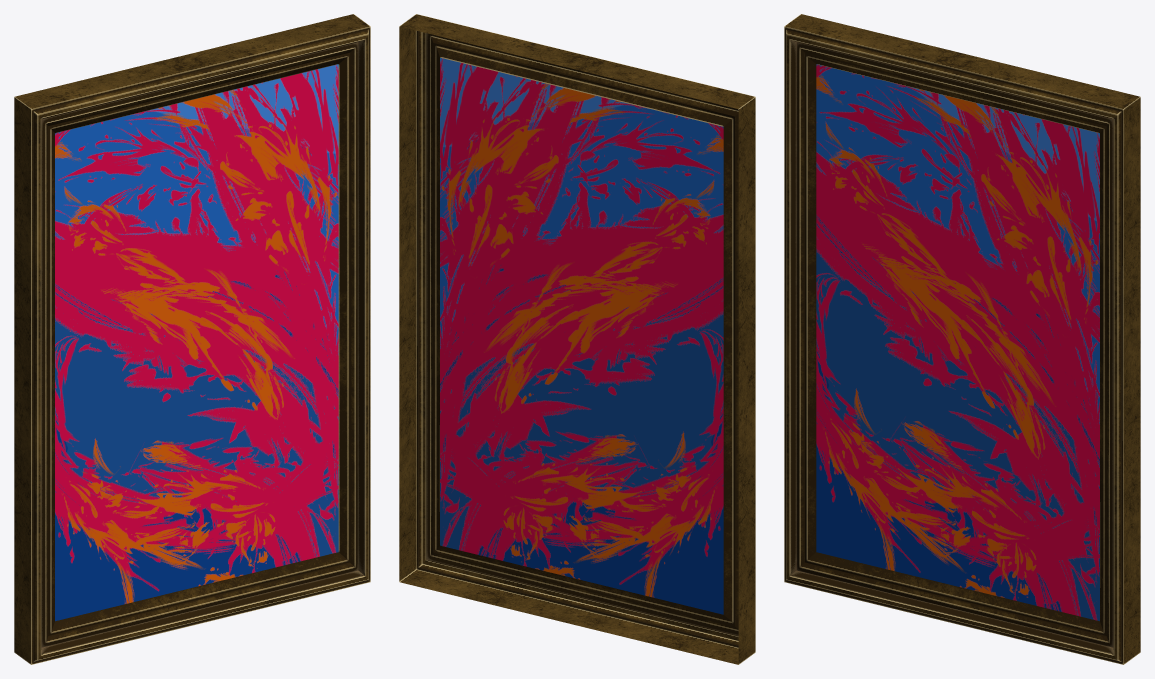
Rendered from Painting 5.fbx.
The picture shows the model from 3 angles, left to right: view 1: azimuth 30°, elevation 25°; view 2: azimuth 150°, elevation 25°; view 3: azimuth 330°, elevation 25°; orthographic projection.
Visible parts, largest first — view 1: painting_Var2_4; view 2: painting_Var2_4; view 3: painting_Var2_4.
Part boxes in pixels (<box>): painting_Var2_4: <box>14,14,370,664</box>; painting_Var2_4: <box>399,14,755,664</box>; painting_Var2_4: <box>784,14,1140,664</box>.
Size of the model in its own units: 59.07 by 92.39 by 5.86.
2 materials, 2 textured.
